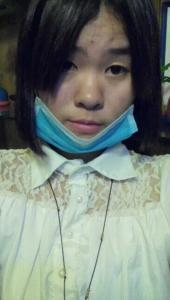WRONG: (35, 40, 144, 149)
